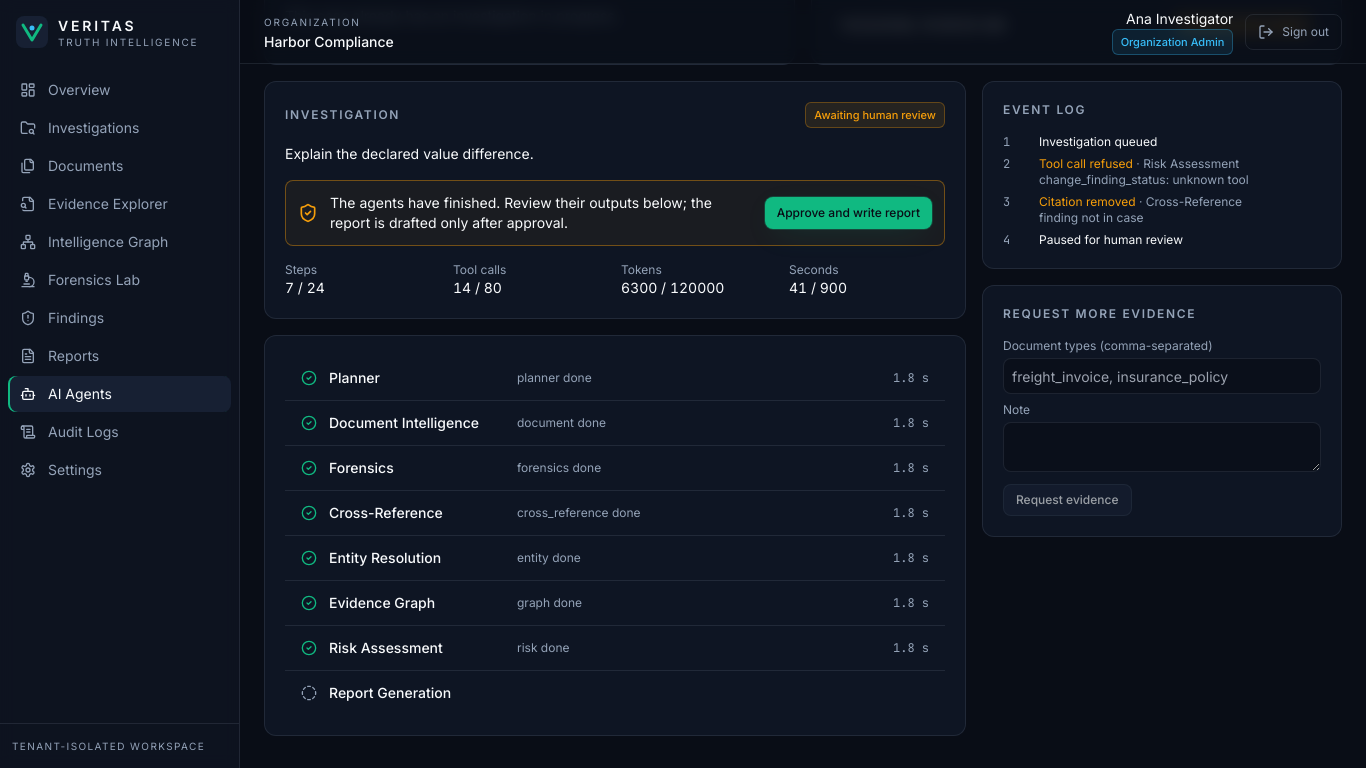
Scenario: a paused run shows budget use, refused actions, cited outputs and hypotheses
(page scrolled)
Expected: the 1st text "Awaiting human review" is shown, [1173,12,1313,38]
Expected: the text named "Steps: 7 of 24" is shown, [285,279,325,296]
Click the button "Cross-Reference cross_reference done 1.8 s".
click(615, 513)  # box [285,491,945,535]
(page scrolled)
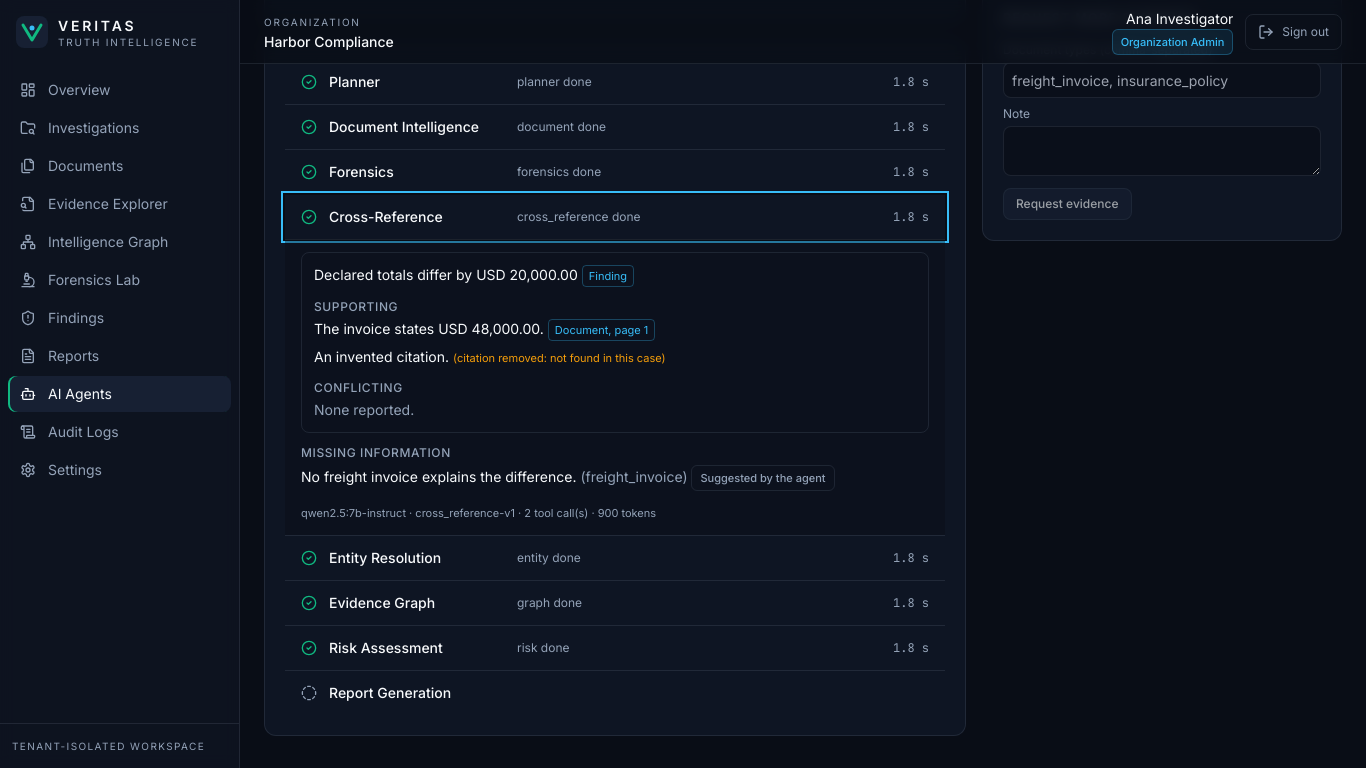
Now the text "(citation removed: not found in this case)" is shown, box [453,351,666,365]
Now the text "Suggested by the agent" is shown, box [692,465,835,491]
Click the button "Risk Assessment risk done 1.8 s".
click(386, 648)  # box [285,626,945,670]
(page scrolled)
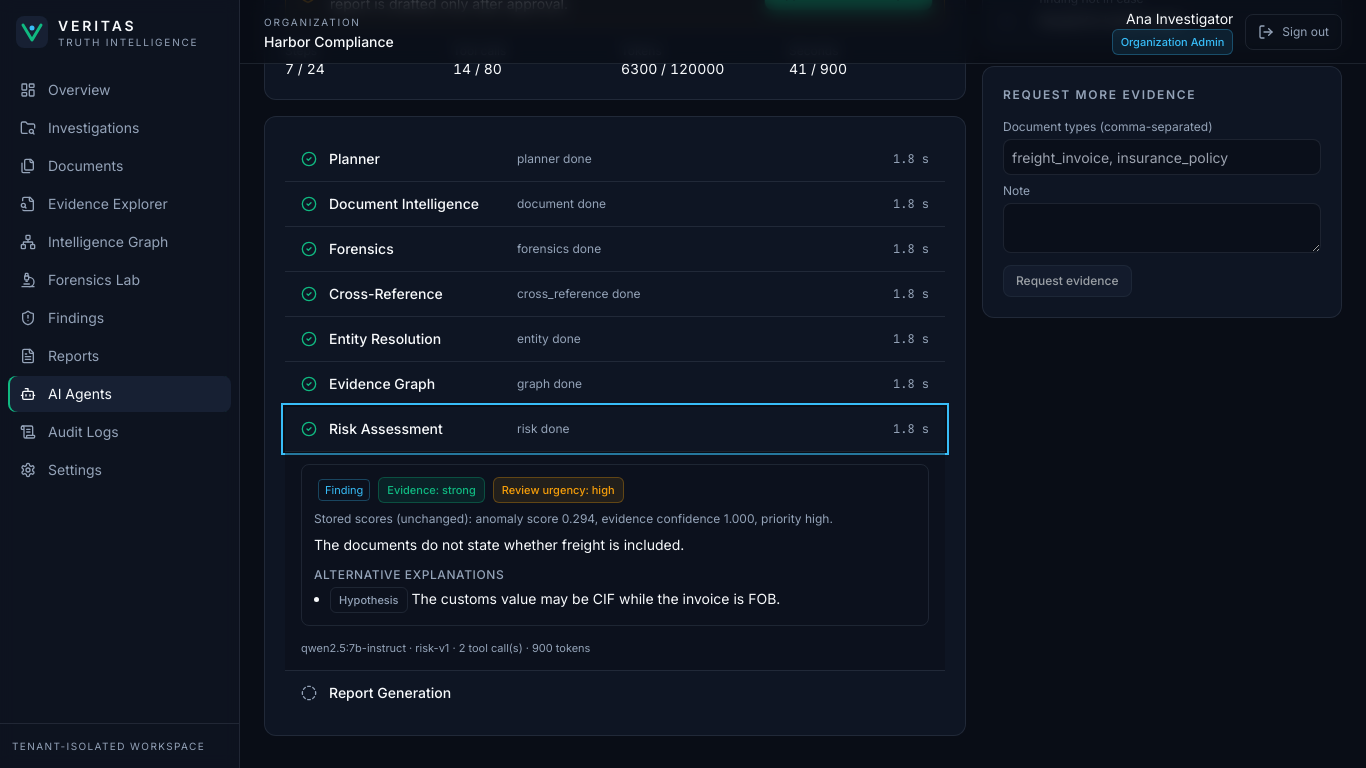
Expected: the button "Report Generation" is disabled, [285,671,945,715]
Now the text "Hypothesis" is shown, box [330,587,408,613]
Now the text "anomaly score 0.294, evidence confidence 1.000, priority high" is shown, box [314,511,916,527]
